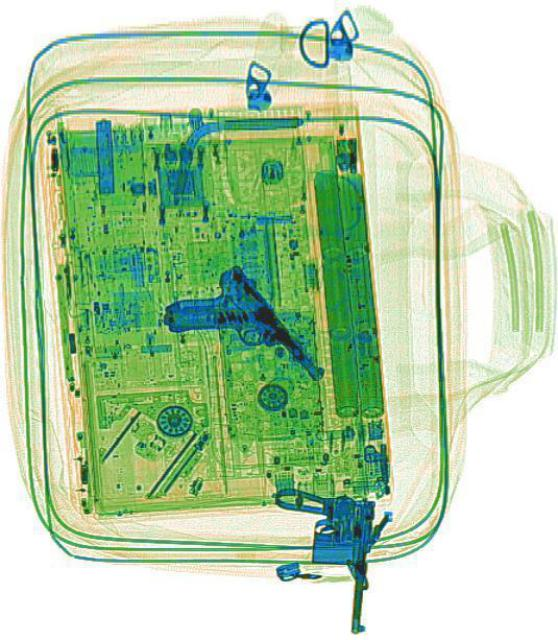Gun: (154, 252, 322, 436), (259, 481, 375, 635)
